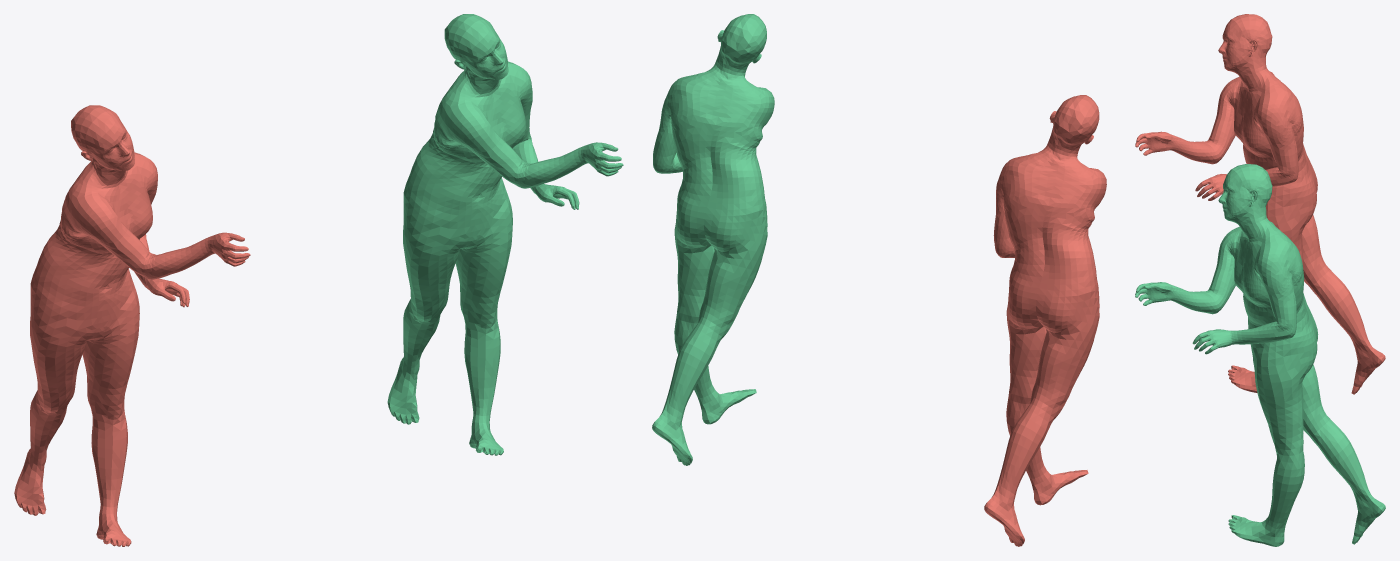
File: pose_500_before_after.glb
3 renders of one model, left to right at view 1: azimuth 30°, elevation 25°; view 2: azimuth 150°, elevation 25°; view 3: azimuth 270°, elevation 25°, orthographic. The views are drawn at different scales.
Parts seen in each view (by area): view 1: poseshield_green, input_red; view 2: poseshield_green, input_red; view 3: poseshield_green, input_red.
Part boxes in pixels (box(x1,y1,x2,y2)): poseshield_green: box(387, 14, 623, 455); input_red: box(14, 105, 250, 546); poseshield_green: box(652, 14, 774, 465); input_red: box(984, 95, 1106, 546); poseshield_green: box(1135, 164, 1385, 546); input_red: box(1135, 14, 1385, 394).
Size of what is drawn, in the model's own units: 1.93 by 1.68 by 1.02.
